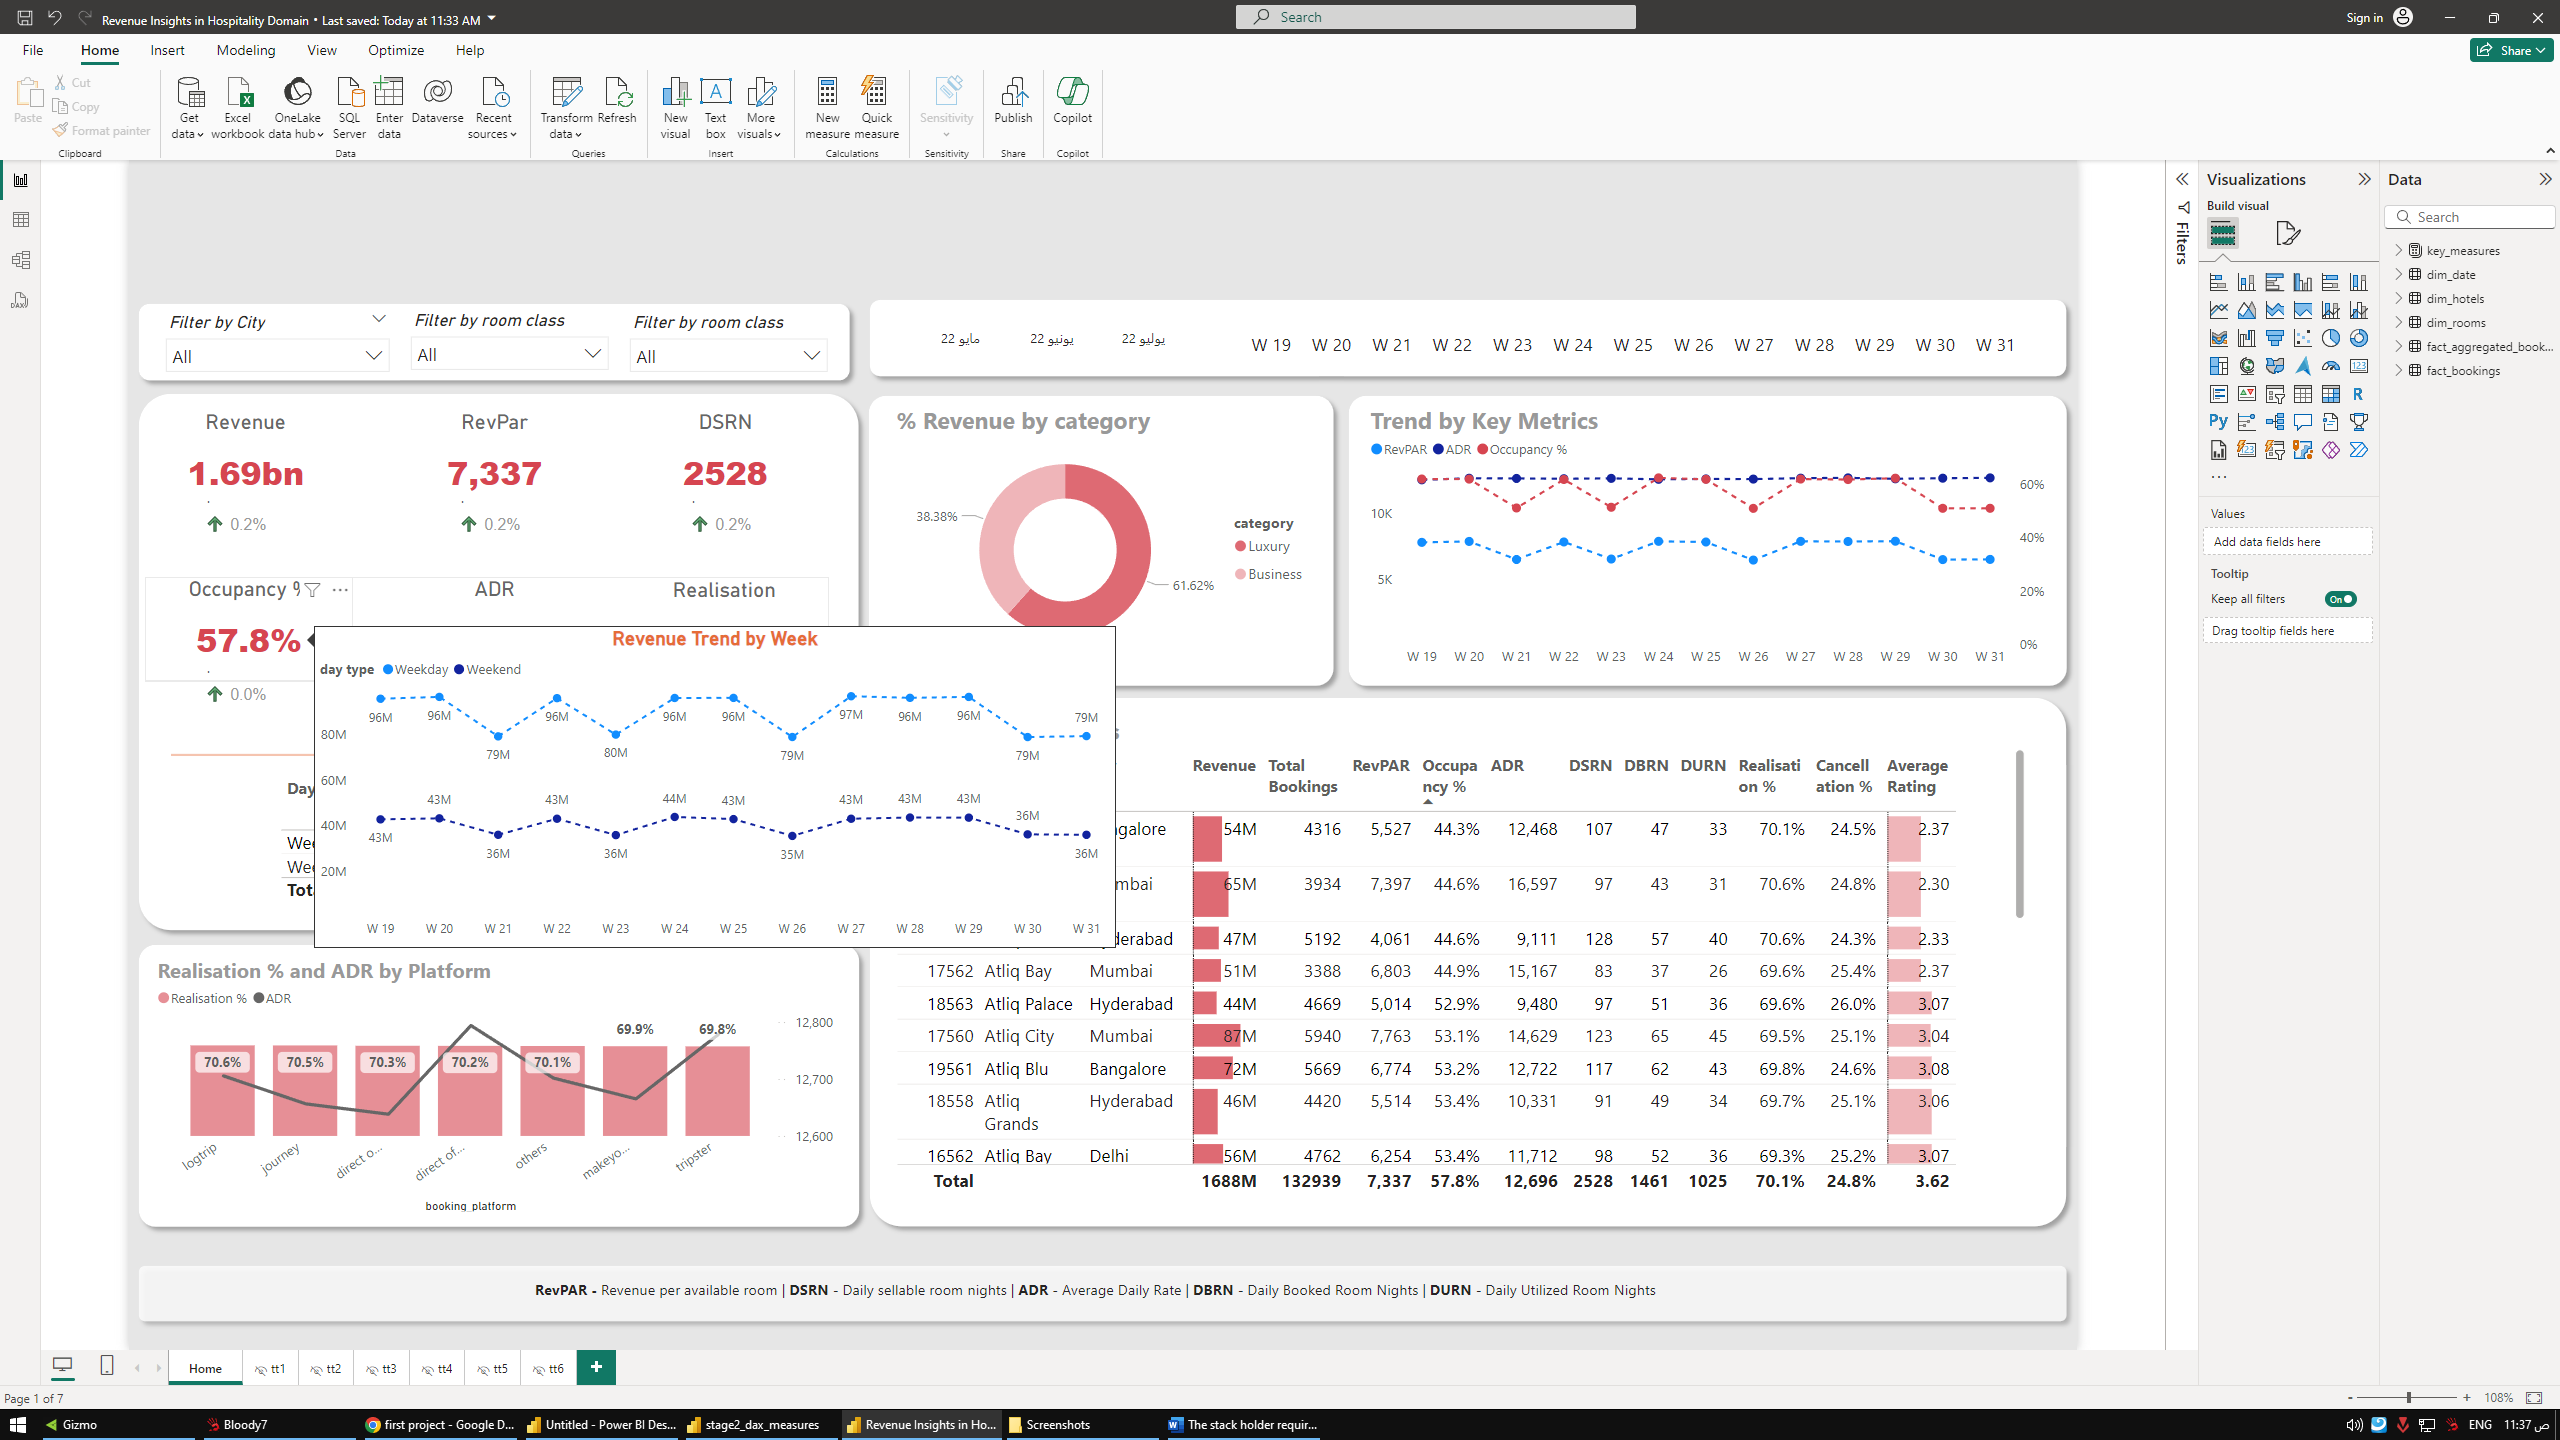

This screenshot's page, from the dashboard's own definition file:
{"tool":"powerbi","page":{"name":"Page 1","canvas":[1280,720],"ordinal":0},"visuals":[{"type":"tableEx","fields":{"Values":["dim_hotels.property_id","dim_hotels.property_name","key_measures.Revenue","key_measures.Total Bookings","key_measures.RevPAR","key_measures.Occupancy %","key_measures.ADR","key_measures.DSRN","key_measures.DBRN","key_measures.DURN","key_measures.Realisation %","key_measures.Cancellation %"]},"box":[277.8,248.5,987.6,446.6],"z":0},{"type":"advancedSlicerVisual","title":"filter by city ","fields":{"Values":["dim_hotels.city"]},"box":[0,113.9,478.8,62.1],"z":1000},{"type":"advancedSlicerVisual","title":"filter by room type","fields":{"Values":["dim_rooms.room_class"]},"box":[0,51.2,555.5,69.4],"z":2000},{"type":"advancedSlicerVisual","fields":{"Values":["dim_date.mmm yy"]},"box":[552.5,64.6,238.8,56],"z":3000},{"type":"advancedSlicerVisual","fields":{"Values":["dim_date.week no"]},"box":[0,0,1104.8,51],"z":4000},{"type":"card","title":"Revenue","fields":{"Values":["key_measures.Revenue"]},"box":[0,176.5,127.4,87.9],"z":5000},{"type":"tableEx","fields":{"Values":["key_measures.Revenue WoW change %"]},"box":[15.9,248.5,107,59.9],"z":6000},{"type":"donutChart","fields":{"Category":["dim_hotels.category"],"Y":["key_measures.Occupancy %"]},"box":[997.1,52.9,257.4,182.2],"z":6001}]}

Visuals, with their boxes on the page's 1280x720 design canvas (x1, y1, x2, y2). These are canvas units, not pixel positions in the 2560x1440 screenshot, which may show the page scaled, cropped or inside an application window:
tableEx - dim_hotels.property_id x dim_hotels.property_name: left=278, top=248, right=1265, bottom=695
"filter by city " advancedSlicerVisual: left=0, top=114, right=479, bottom=176
"filter by room type" advancedSlicerVisual: left=0, top=51, right=556, bottom=121
advancedSlicerVisual - dim_date.mmm yy: left=552, top=65, right=791, bottom=121
advancedSlicerVisual - dim_date.week no: left=0, top=0, right=1105, bottom=51
"Revenue" card: left=0, top=176, right=127, bottom=264
tableEx - key_measures.Revenue WoW change %: left=16, top=248, right=123, bottom=308
donutChart - dim_hotels.category x key_measures.Occupancy %: left=997, top=53, right=1254, bottom=235
